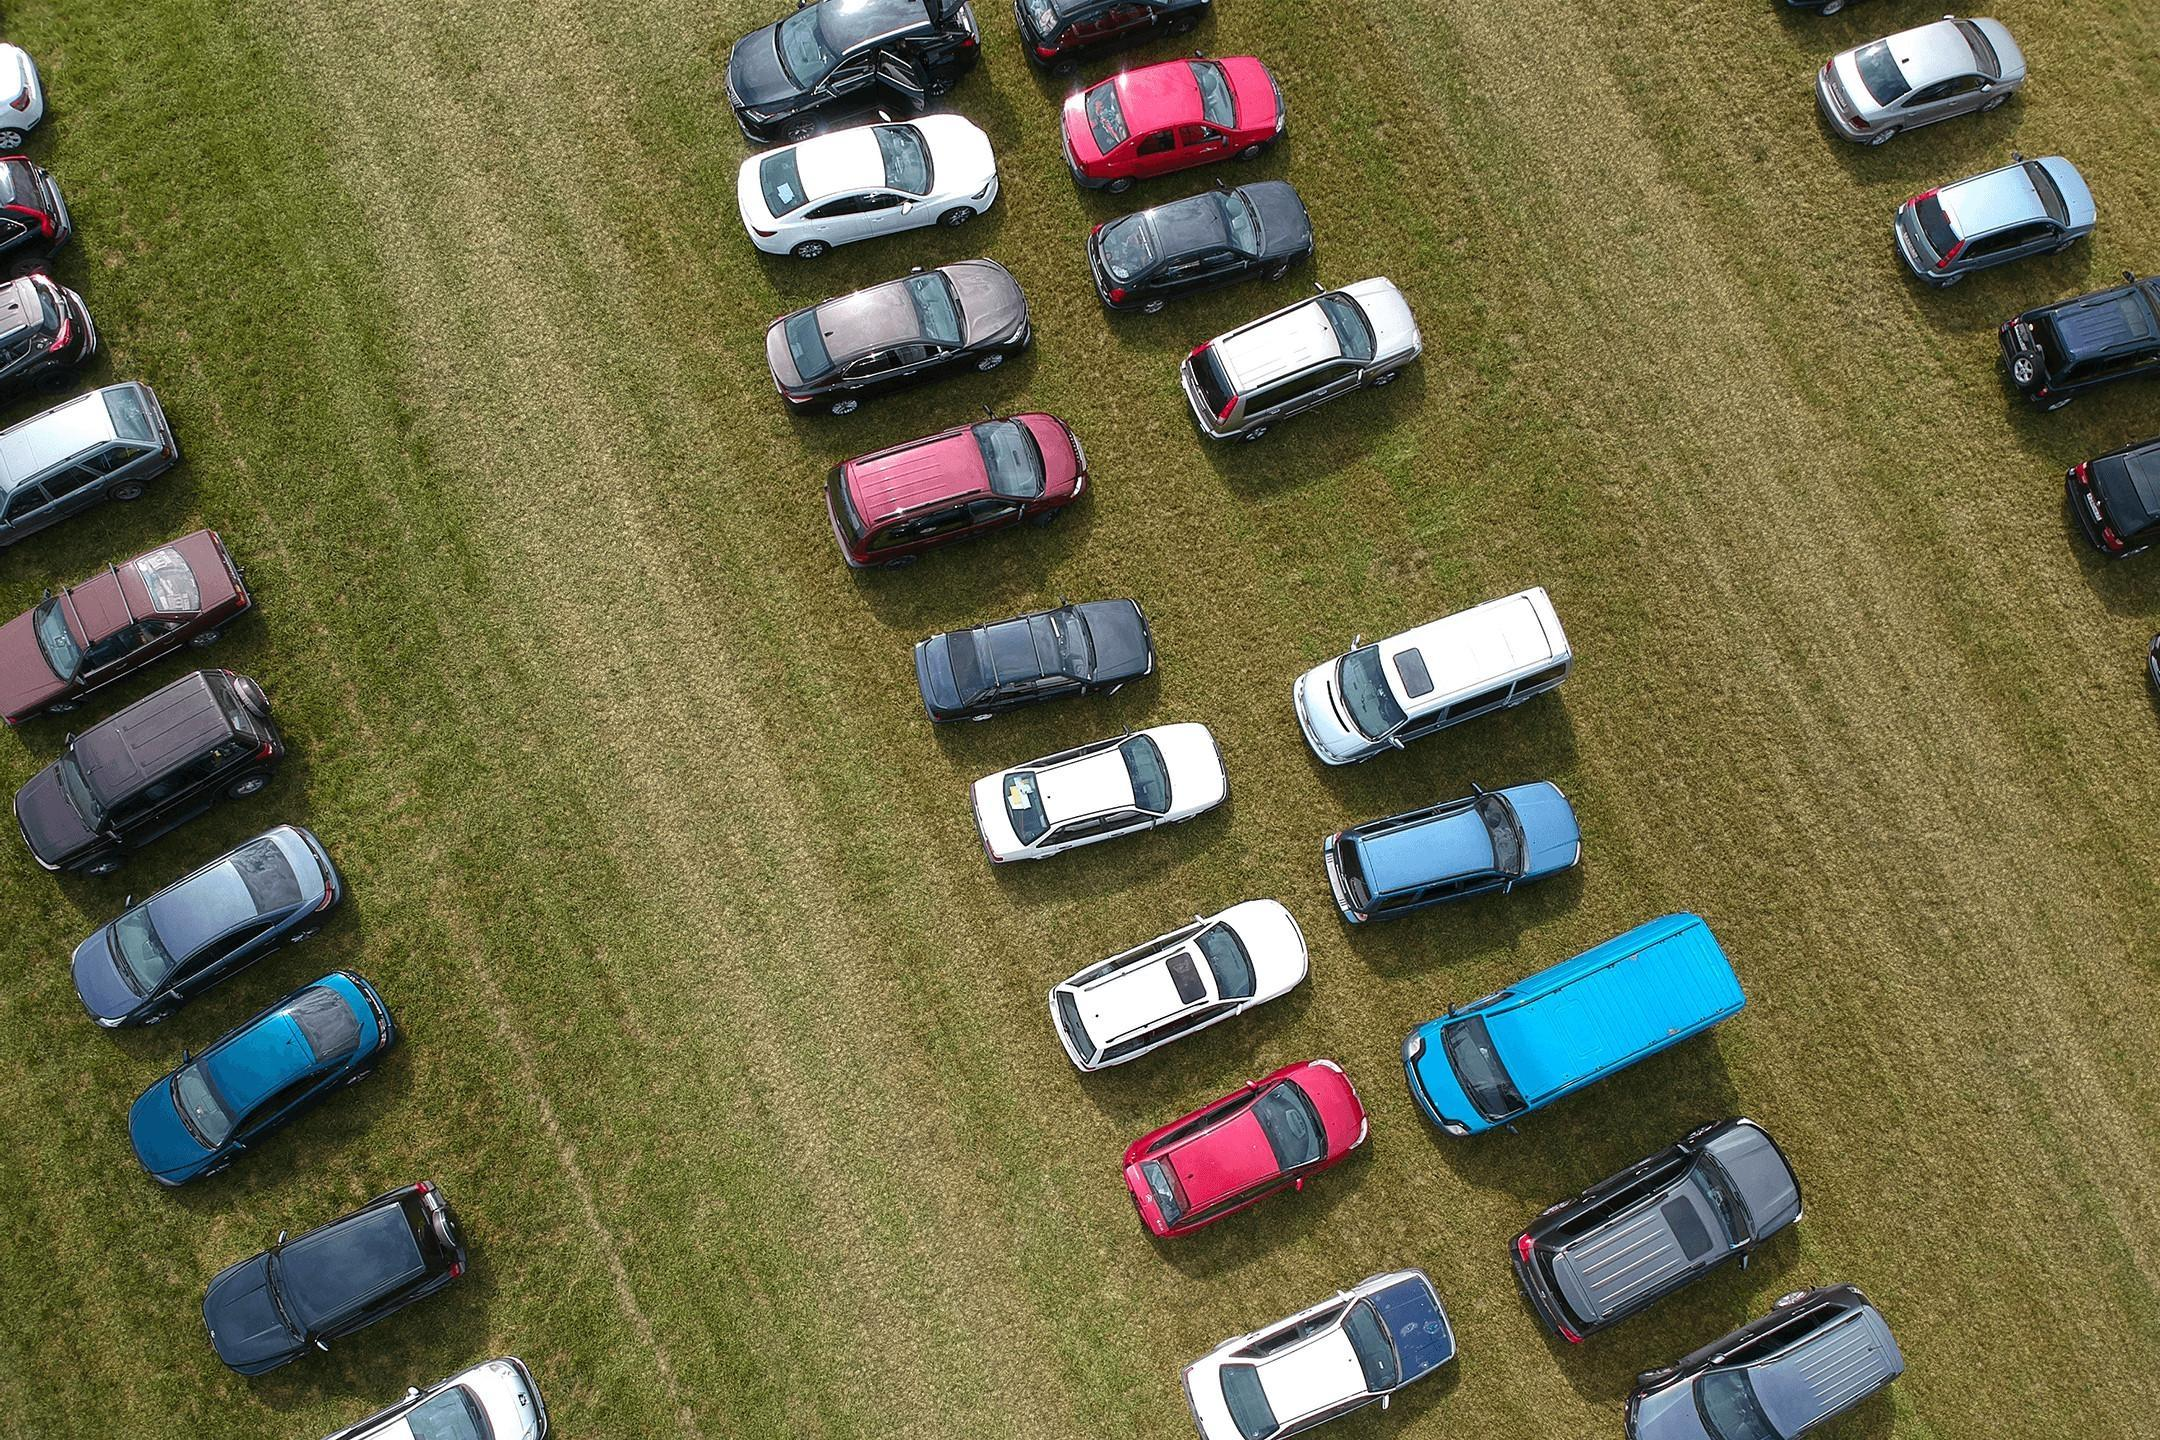Car: (1397, 908, 1751, 1143), (1502, 1112, 1809, 1353), (118, 960, 402, 1198), (6, 660, 295, 890), (62, 817, 348, 1041), (192, 1174, 476, 1386), (1288, 579, 1578, 773), (0, 524, 260, 736), (1041, 895, 1314, 1082), (1173, 1263, 1463, 1439), (820, 401, 1094, 578), (1118, 1054, 1373, 1242), (762, 253, 1036, 421), (1621, 1280, 1910, 1439), (1176, 271, 1427, 448), (732, 107, 1003, 268), (1320, 775, 1586, 930), (967, 719, 1235, 872), (722, 0, 988, 147), (1054, 48, 1290, 200), (911, 592, 1161, 730), (0, 375, 186, 559), (1082, 176, 1318, 320), (1890, 148, 2100, 296), (1811, 12, 2030, 150), (1994, 266, 2159, 419), (308, 1348, 557, 1439), (1010, 0, 1216, 83), (0, 272, 102, 416), (2060, 432, 2159, 566), (0, 152, 77, 288), (0, 40, 47, 154)
